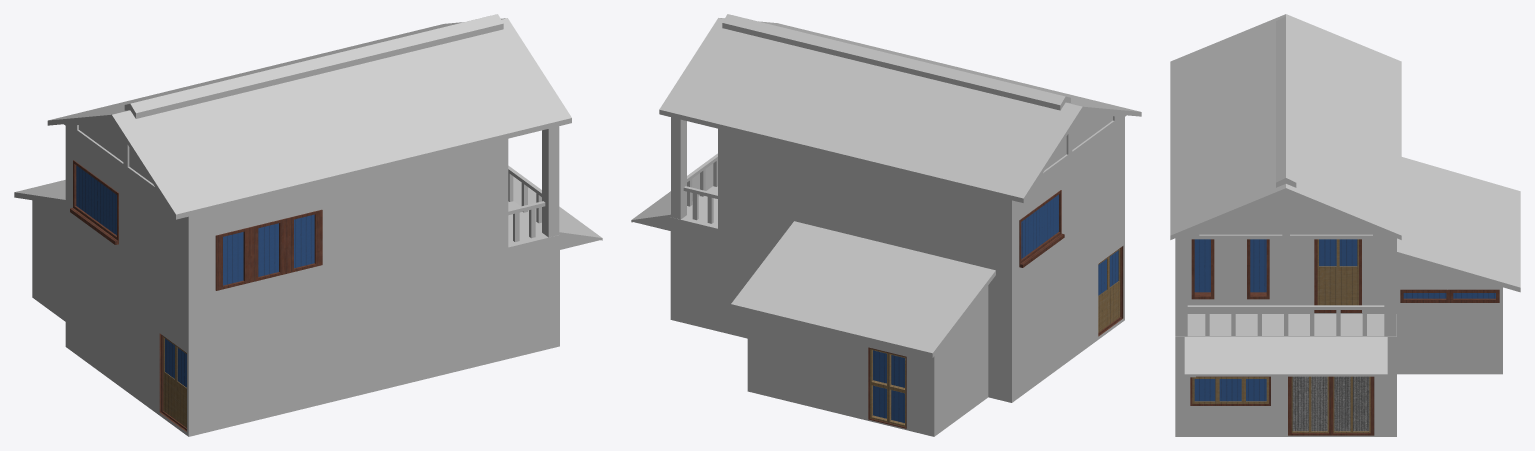
Rendered from House3-2.fbx.
3 views of the same model, side by side, from view 1: azimuth 30°, elevation 25°; view 2: azimuth 150°, elevation 25°; view 3: azimuth 270°, elevation 25° (orthographic). The views are drawn at different scales.
Visible parts, largest first — view 1: House3-2; view 2: House3-2; view 3: House3-2.
Part boxes in pixels (x1,y1,x2,y2): House3-2: [14, 14, 602, 436]; House3-2: [631, 14, 1141, 436]; House3-2: [1170, 14, 1520, 436].
Bounding box in the file's own units: 815 × 516 × 632.
